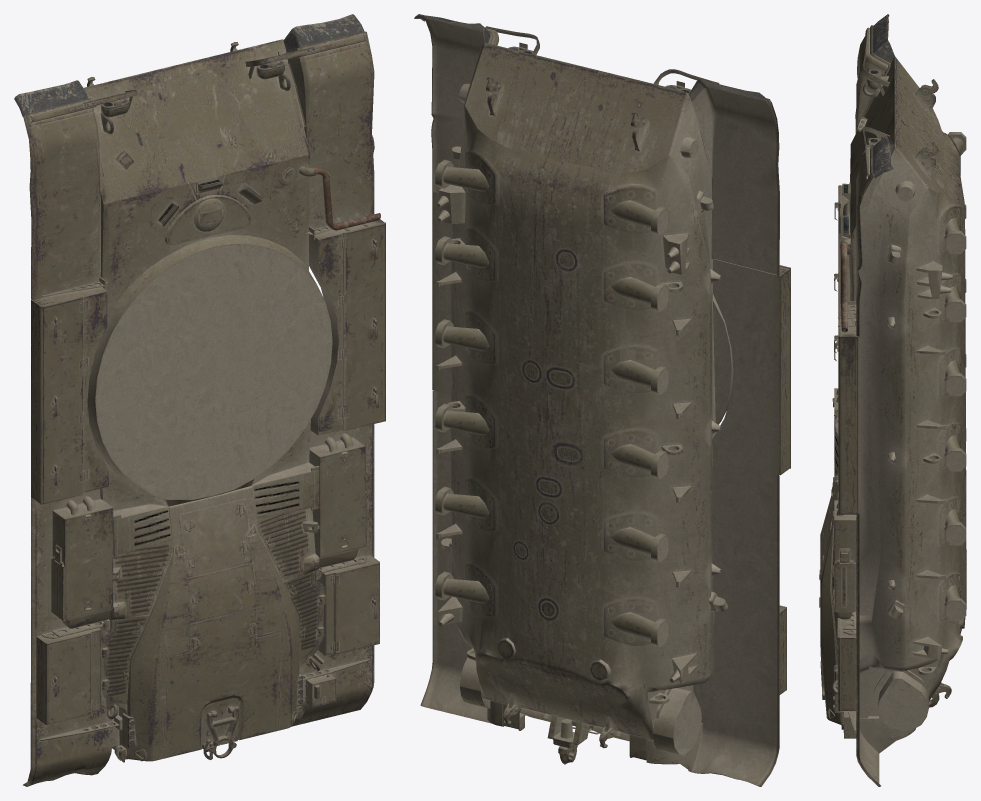
The model's file is Hull.glb.
3 renders of one model, left to right at view 1: azimuth 30°, elevation 25°; view 2: azimuth 150°, elevation 25°; view 3: azimuth 270°, elevation 25°, orthographic. The views are drawn at different scales.
Visible parts, largest first — view 1: set_0_group_0; view 2: set_0_group_0; view 3: set_0_group_0.
Boxes of the visible parts, left/top/right/bottom form: set_0_group_0: left=14, top=14, right=385, bottom=786; set_0_group_0: left=414, top=14, right=790, bottom=786; set_0_group_0: left=819, top=14, right=966, bottom=786.
Bounding box in the file's own units: 3.62 × 6.96 × 1.49.
1 material, 1 textured.
